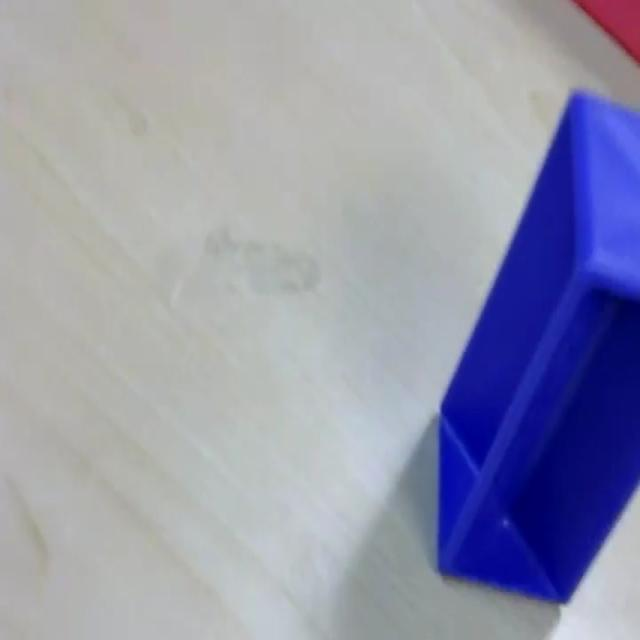blue_block: (434, 85, 638, 604)
